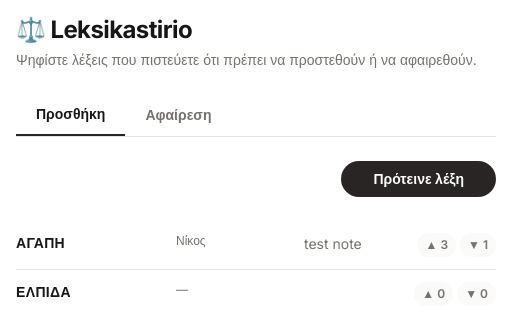
Test case: Leksikastirio page — optimistic voting › increments upvote count immediately on upvote click
Check: the text "αγαπη" is shown, box x1=16 y1=234 x2=65 y2=251
Click the button with test id "vote-up-button": {"x": 437, "y": 245} x1=418 y1=233 x2=456 y2=257
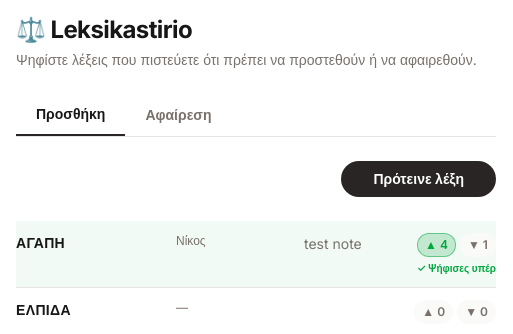
Check: the button with test id "vote-up-button" shows "4", box x1=417 y1=233 x2=456 y2=257
